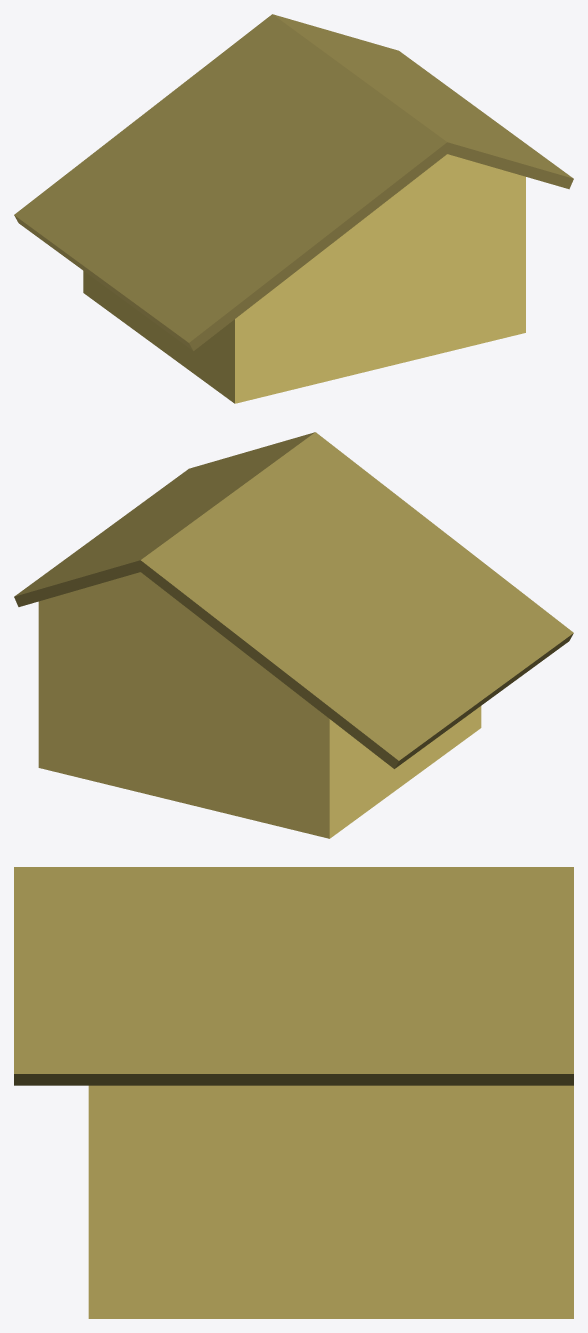
Rendered from result.glb.
The picture shows the model from 3 angles, top to bottom: view 1: azimuth 30°, elevation 25°; view 2: azimuth 150°, elevation 25°; view 3: azimuth 270°, elevation 25°; orthographic projection. The views are drawn at different scales.
Visible parts, largest first — view 1: 91aa270b-bd7d-4d6c-933d-beb9c6eebe96__undefined (×2), 287bf539-8dbb-40f2-81b6-92cbdb061cac__undefined; view 2: 91aa270b-bd7d-4d6c-933d-beb9c6eebe96__undefined (×2), 287bf539-8dbb-40f2-81b6-92cbdb061cac__undefined; view 3: 91aa270b-bd7d-4d6c-933d-beb9c6eebe96__undefined, 287bf539-8dbb-40f2-81b6-92cbdb061cac__undefined.
Boxes of the visible parts, <box> form: 91aa270b-bd7d-4d6c-933d-beb9c6eebe96__undefined (×2): <box>14,14,573,350</box>; 287bf539-8dbb-40f2-81b6-92cbdb061cac__undefined: <box>83,154,525,403</box>; 91aa270b-bd7d-4d6c-933d-beb9c6eebe96__undefined (×2): <box>14,432,573,768</box>; 287bf539-8dbb-40f2-81b6-92cbdb061cac__undefined: <box>38,572,481,838</box>; 91aa270b-bd7d-4d6c-933d-beb9c6eebe96__undefined: <box>14,867,573,1085</box>; 287bf539-8dbb-40f2-81b6-92cbdb061cac__undefined: <box>88,1085,573,1318</box>.
Bounding box in the file's own units: 953 × 550 × 750.
